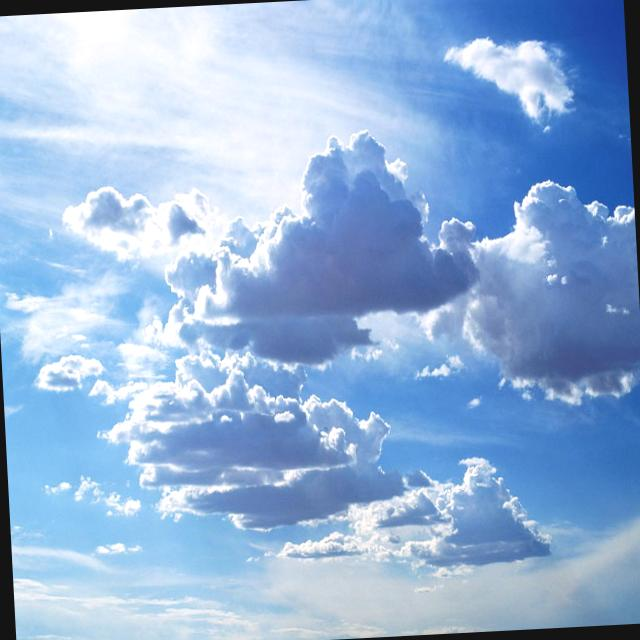cumulus: (154, 102, 485, 364), (100, 344, 408, 562), (457, 156, 640, 423), (406, 437, 556, 581)
